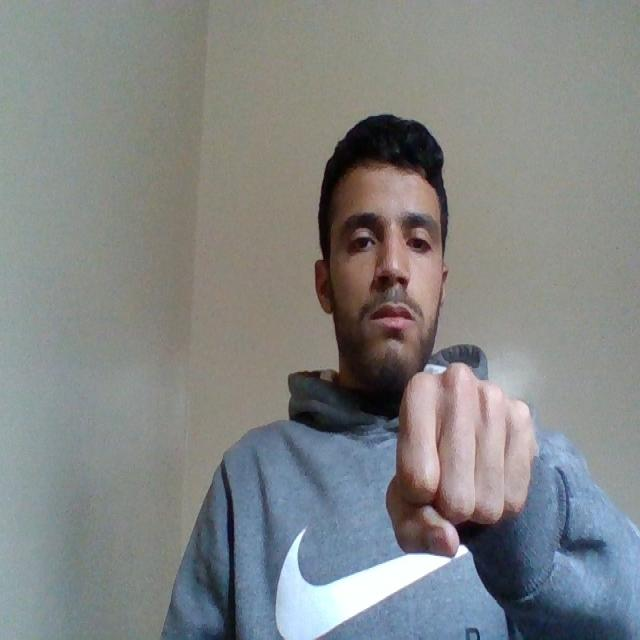No: (380, 365, 538, 563)
